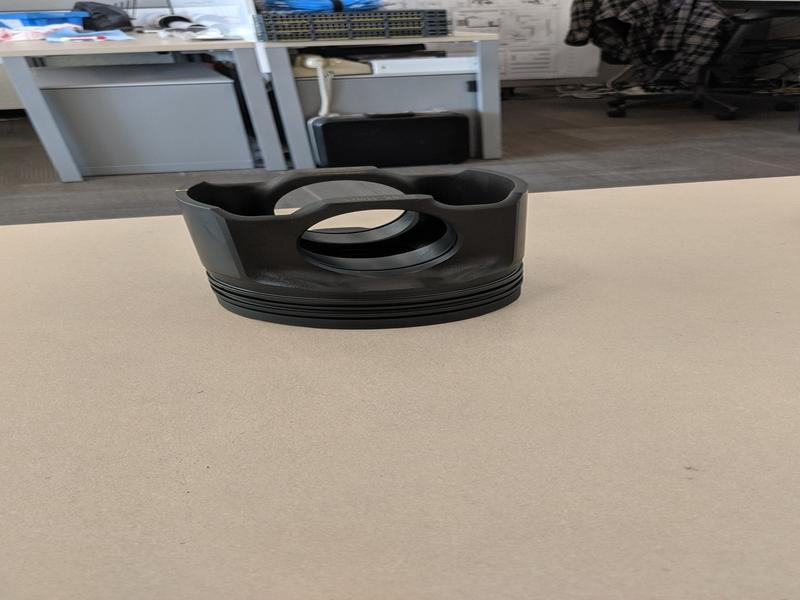piston: (172, 167, 534, 332)
